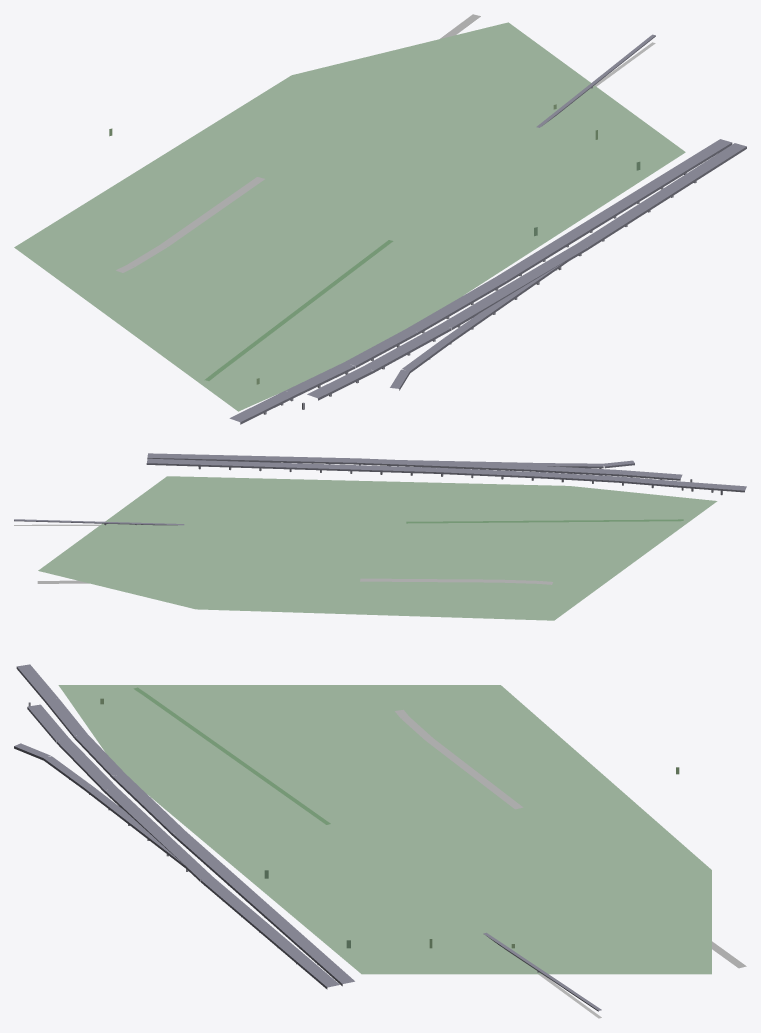
The picture shows the model from 3 angles, top to bottom: view 1: azimuth 30°, elevation 25°; view 2: azimuth 150°, elevation 25°; view 3: azimuth 270°, elevation 25°; orthographic projection. The views are drawn at different scales.
Bounding box in the file's own units: 594 × 8.8 × 535.
